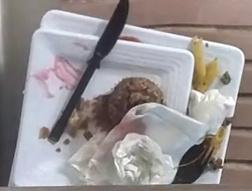muffin: (94, 78, 163, 132)
pasta: (191, 36, 219, 92)
